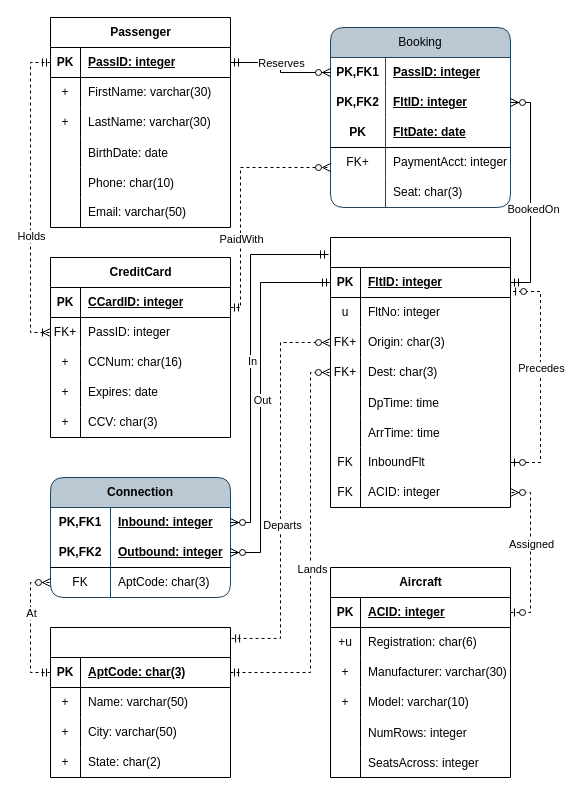
This 581x795 diagram has some shape labels left out. Each missing label, with the box of its shape:
Airport: (50, 626, 230, 778)
Flight: (330, 236, 510, 508)
